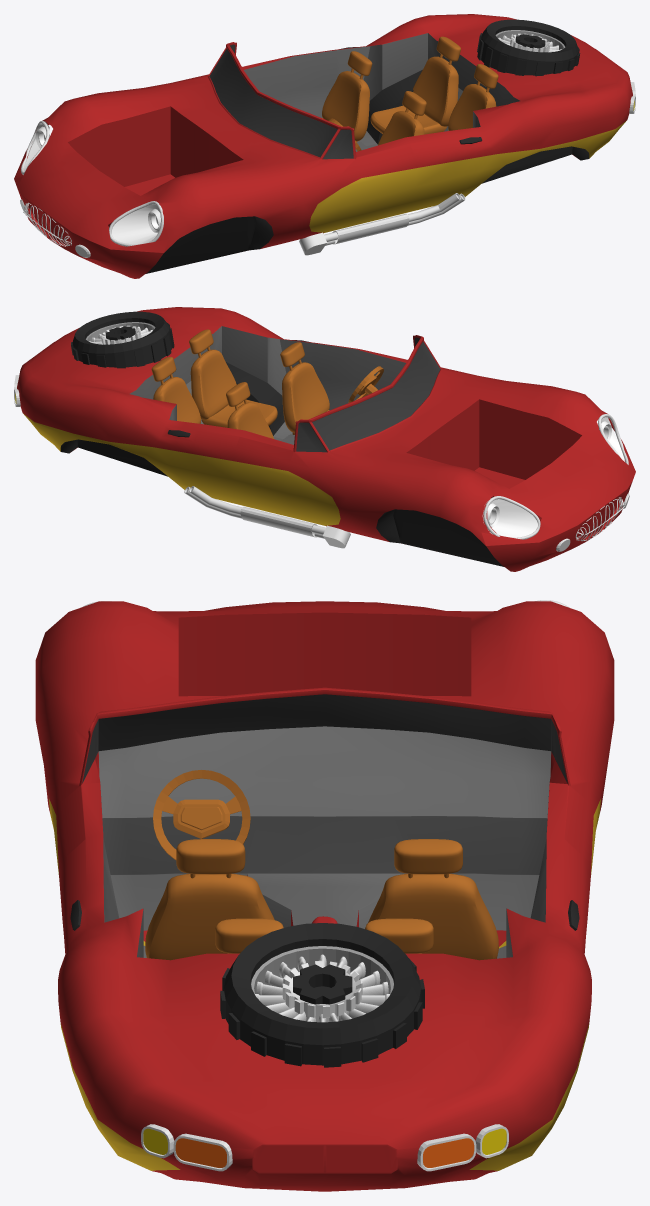
File: zzzzz.fbx
3 renders of one model, top to bottom at view 1: azimuth 30°, elevation 25°; view 2: azimuth 150°, elevation 25°; view 3: azimuth 270°, elevation 25°, orthographic. The views are drawn at different scales.
Visible parts, largest first — view 1: Plane, Cube.001, колесо 10, Cube, Circle.005, Circle.004, Circle.001, Circle; view 2: Plane, Cube.001, колесо 10, Cube, Circle.005, Circle.004, Circle.001, Circle, Circle.003; view 3: Plane, колесо 10, Cube, Cube.002, Circle.003, Cube.001.
Boxes of the visible parts, <box> form: Plane: <box>14,14,632,278</box>; Cube.001: <box>370,36,498,134</box>; колесо 10: <box>477,19,580,76</box>; Cube: <box>322,51,426,145</box>; Circle.005: <box>299,193,465,255</box>; Circle.004: <box>24,121,160,244</box>; Circle.001: <box>21,121,163,246</box>; Circle: <box>23,202,71,246</box>; Plane: <box>17,307,635,571</box>; Cube.001: <box>151,329,277,427</box>; колесо 10: <box>71,311,174,368</box>; Cube: <box>226,342,329,438</box>; Circle.005: <box>184,486,350,548</box>; Circle.004: <box>482,417,624,537</box>; Circle.001: <box>483,414,628,539</box>; Circle: <box>575,497,624,541</box>; Circle.003: <box>348,366,383,402</box>; Plane: <box>35,601,614,1191</box>; колесо 10: <box>220,923,424,1067</box>; Cube: <box>145,839,498,960</box>; Cube.002: <box>141,1124,508,1171</box>; Circle.003: <box>153,770,250,859</box>; Cube.001: <box>215,918,433,953</box>.
Size of the model in its own units: 716 by 151 by 314.
